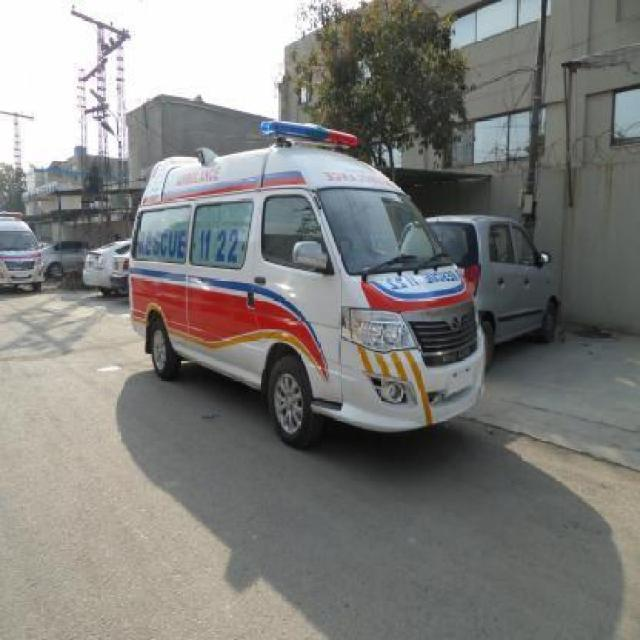emergency: (128, 118, 488, 448)
